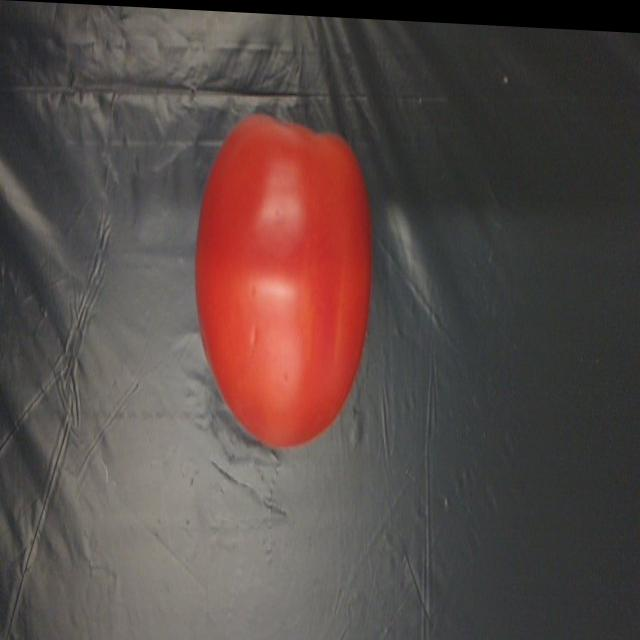kirmizi: (186, 91, 376, 463)
